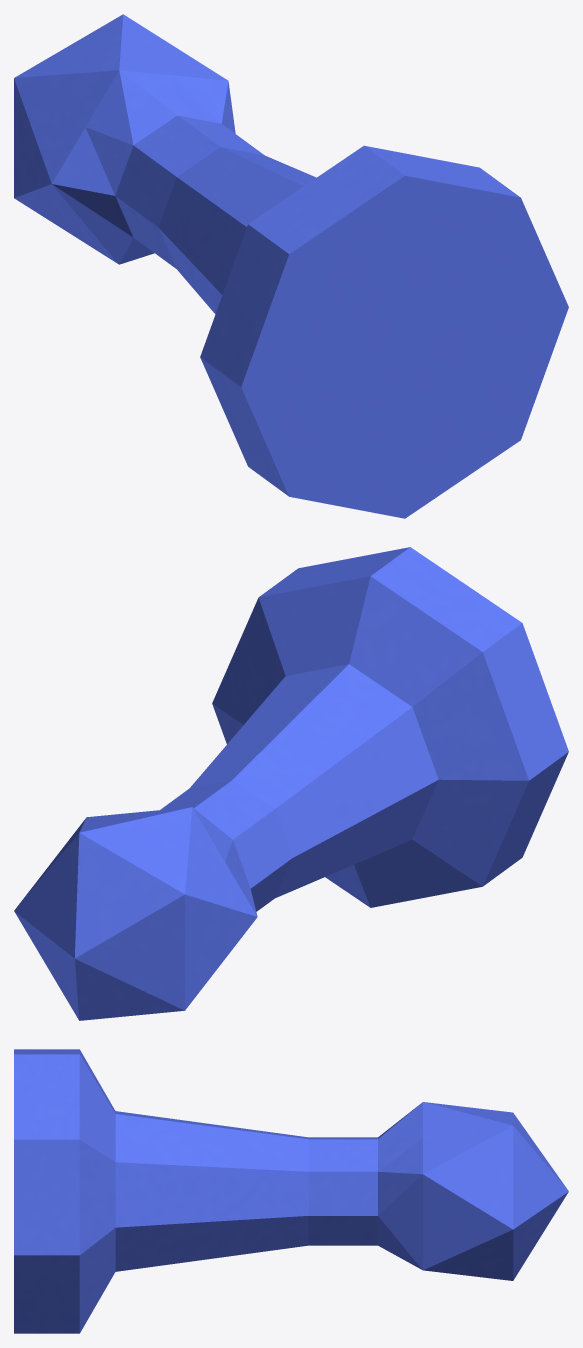
Rendered from Game_Piece_Blue.fbx.
3 views of the same model, one above another, from view 1: azimuth 30°, elevation 25°; view 2: azimuth 150°, elevation 25°; view 3: azimuth 270°, elevation 25° (orthographic). The views are drawn at different scales.
Visible parts, largest first — view 1: Game_Piece_Blue; view 2: Game_Piece_Blue; view 3: Game_Piece_Blue.
Part boxes in pixels (<box>): Game_Piece_Blue: <box>14,14,568,518</box>; Game_Piece_Blue: <box>14,547,568,1020</box>; Game_Piece_Blue: <box>14,1049,568,1333</box>.
Bounding box in the file's own units: 0.6 × 0.6 × 1.1.
Materials: 1 (1 with a texture image).
